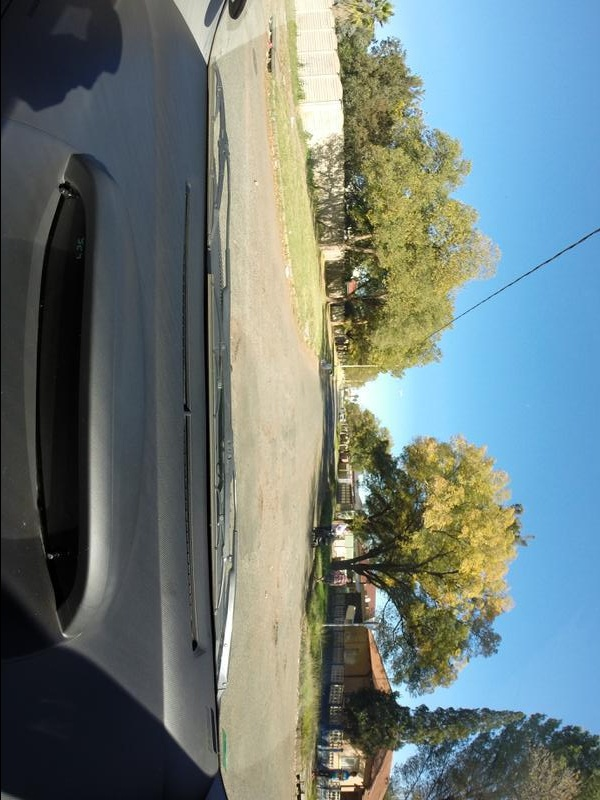pothole: (231, 315, 251, 366), (254, 481, 262, 536), (270, 615, 280, 647), (281, 658, 288, 672)
